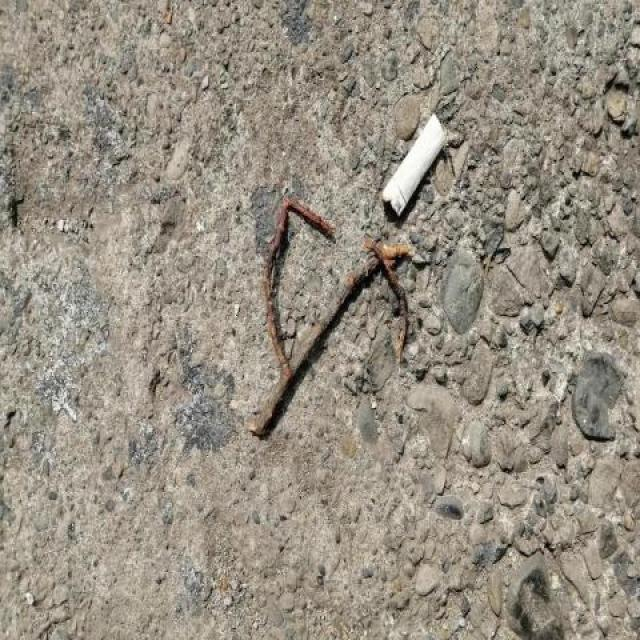non-organic waste: (379, 107, 452, 226)
